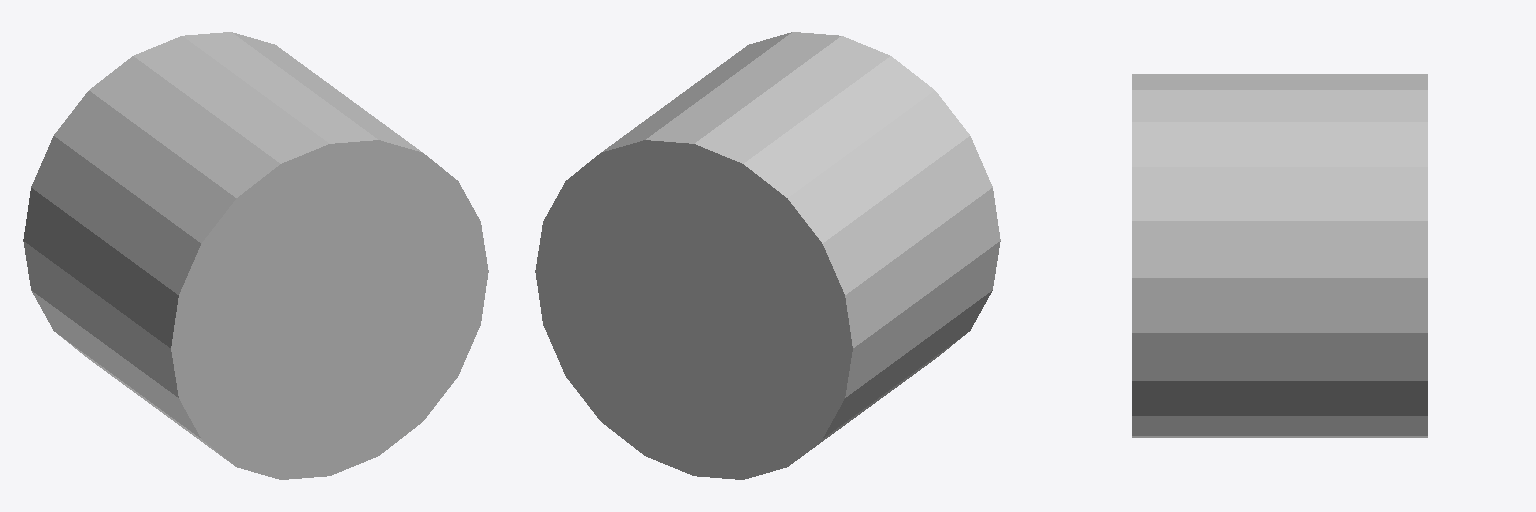
The model's file is Resaltado_Nervio_occipital_menor_D_1.obj.
3 views of the same model, side by side, from view 1: azimuth 30°, elevation 25°; view 2: azimuth 150°, elevation 25°; view 3: azimuth 270°, elevation 25° (orthographic).
Parts seen in each view (by area): view 1: polySurface40 polySurface25 Marcadores1; view 2: polySurface40 polySurface25 Marcadores1; view 3: polySurface40 polySurface25 Marcadores1.
Boxes of the visible parts, box(x1,y1,x2,y2) form: polySurface40 polySurface25 Marcadores1: box(23, 32, 488, 479); polySurface40 polySurface25 Marcadores1: box(535, 32, 1000, 479); polySurface40 polySurface25 Marcadores1: box(1132, 74, 1427, 437).
Bounding box in the file's own units: 0.0375 × 0.0375 × 0.0302.